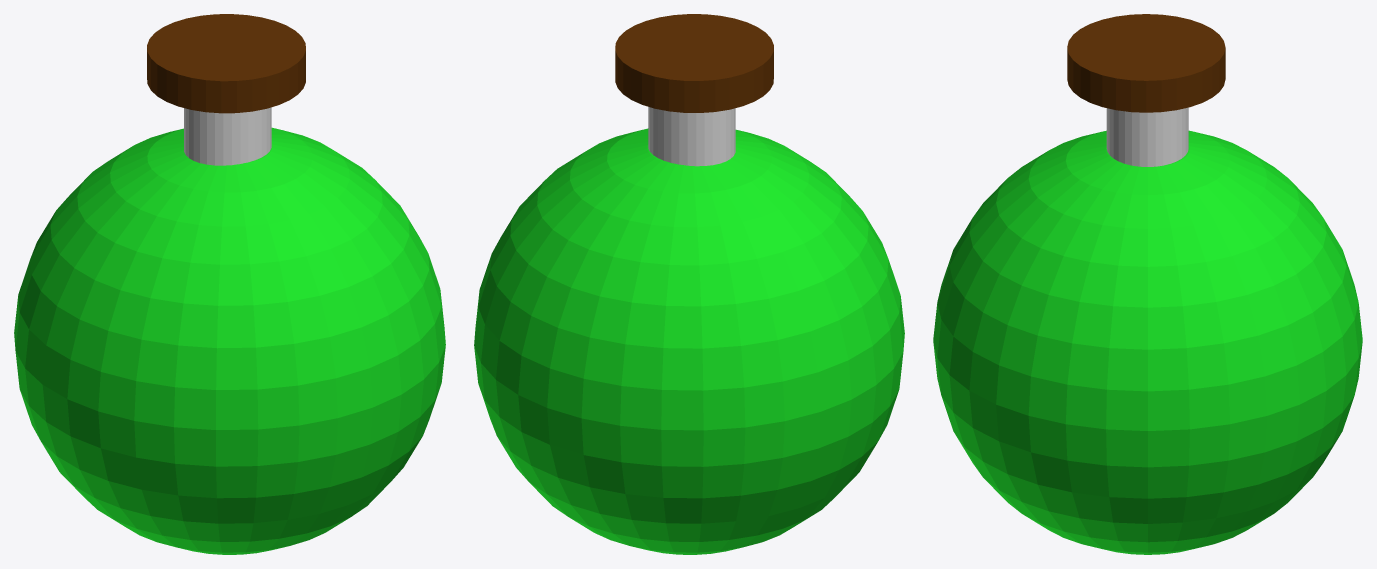
File: healthPotion.fbx
The picture shows the model from 3 angles, left to right: view 1: azimuth 30°, elevation 25°; view 2: azimuth 150°, elevation 25°; view 3: azimuth 270°, elevation 25°; orthographic projection.
Visible parts, largest first — view 1: Цилиндр; view 2: Цилиндр; view 3: Цилиндр.
Part boxes in pixels (x1,y1,x2,y2): Цилиндр: [14, 14, 445, 554]; Цилиндр: [474, 14, 904, 554]; Цилиндр: [933, 14, 1362, 554].
Bounding box in the file's own units: 20.92 × 26.09 × 20.92.
